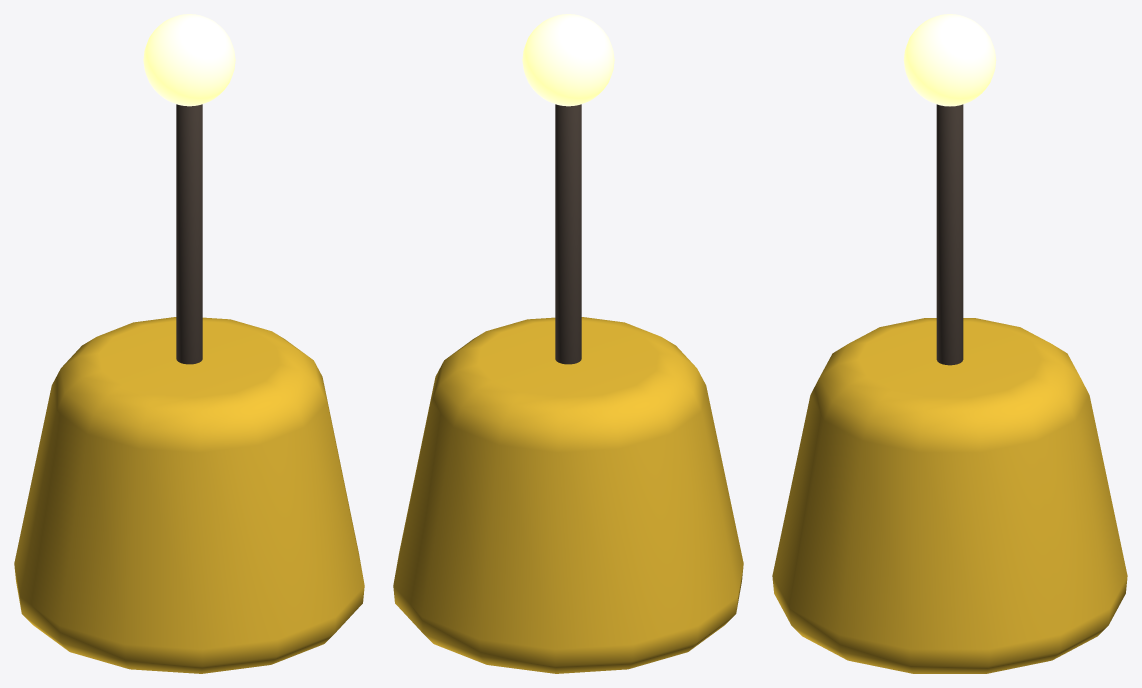
File: buoy_yellow.glb
3 renders of one model, left to right at view 1: azimuth 30°, elevation 25°; view 2: azimuth 150°, elevation 25°; view 3: azimuth 270°, elevation 25°, orthographic.
Visible parts, largest first — view 1: buoy.001, buoy_mast.001, buoy_light.001; view 2: buoy.001, buoy_mast.001, buoy_light.001; view 3: buoy.001, buoy_mast.001, buoy_light.001.
Boxes of the visible parts, x1=… form: buoy.001: x1=14, y1=317, x2=364, y2=673; buoy_mast.001: x1=176, y1=104, x2=202, y2=364; buoy_light.001: x1=143, y1=14, x2=235, y2=106; buoy.001: x1=393, y1=317, x2=743, y2=673; buoy_mast.001: x1=555, y1=104, x2=581, y2=364; buoy_light.001: x1=522, y1=14, x2=614, y2=106; buoy.001: x1=772, y1=318, x2=1127, y2=673; buoy_mast.001: x1=936, y1=104, x2=963, y2=365; buoy_light.001: x1=903, y1=14, x2=996, y2=106.
Size of the model in its own units: 0.5241 by 0.99 by 0.5375.
